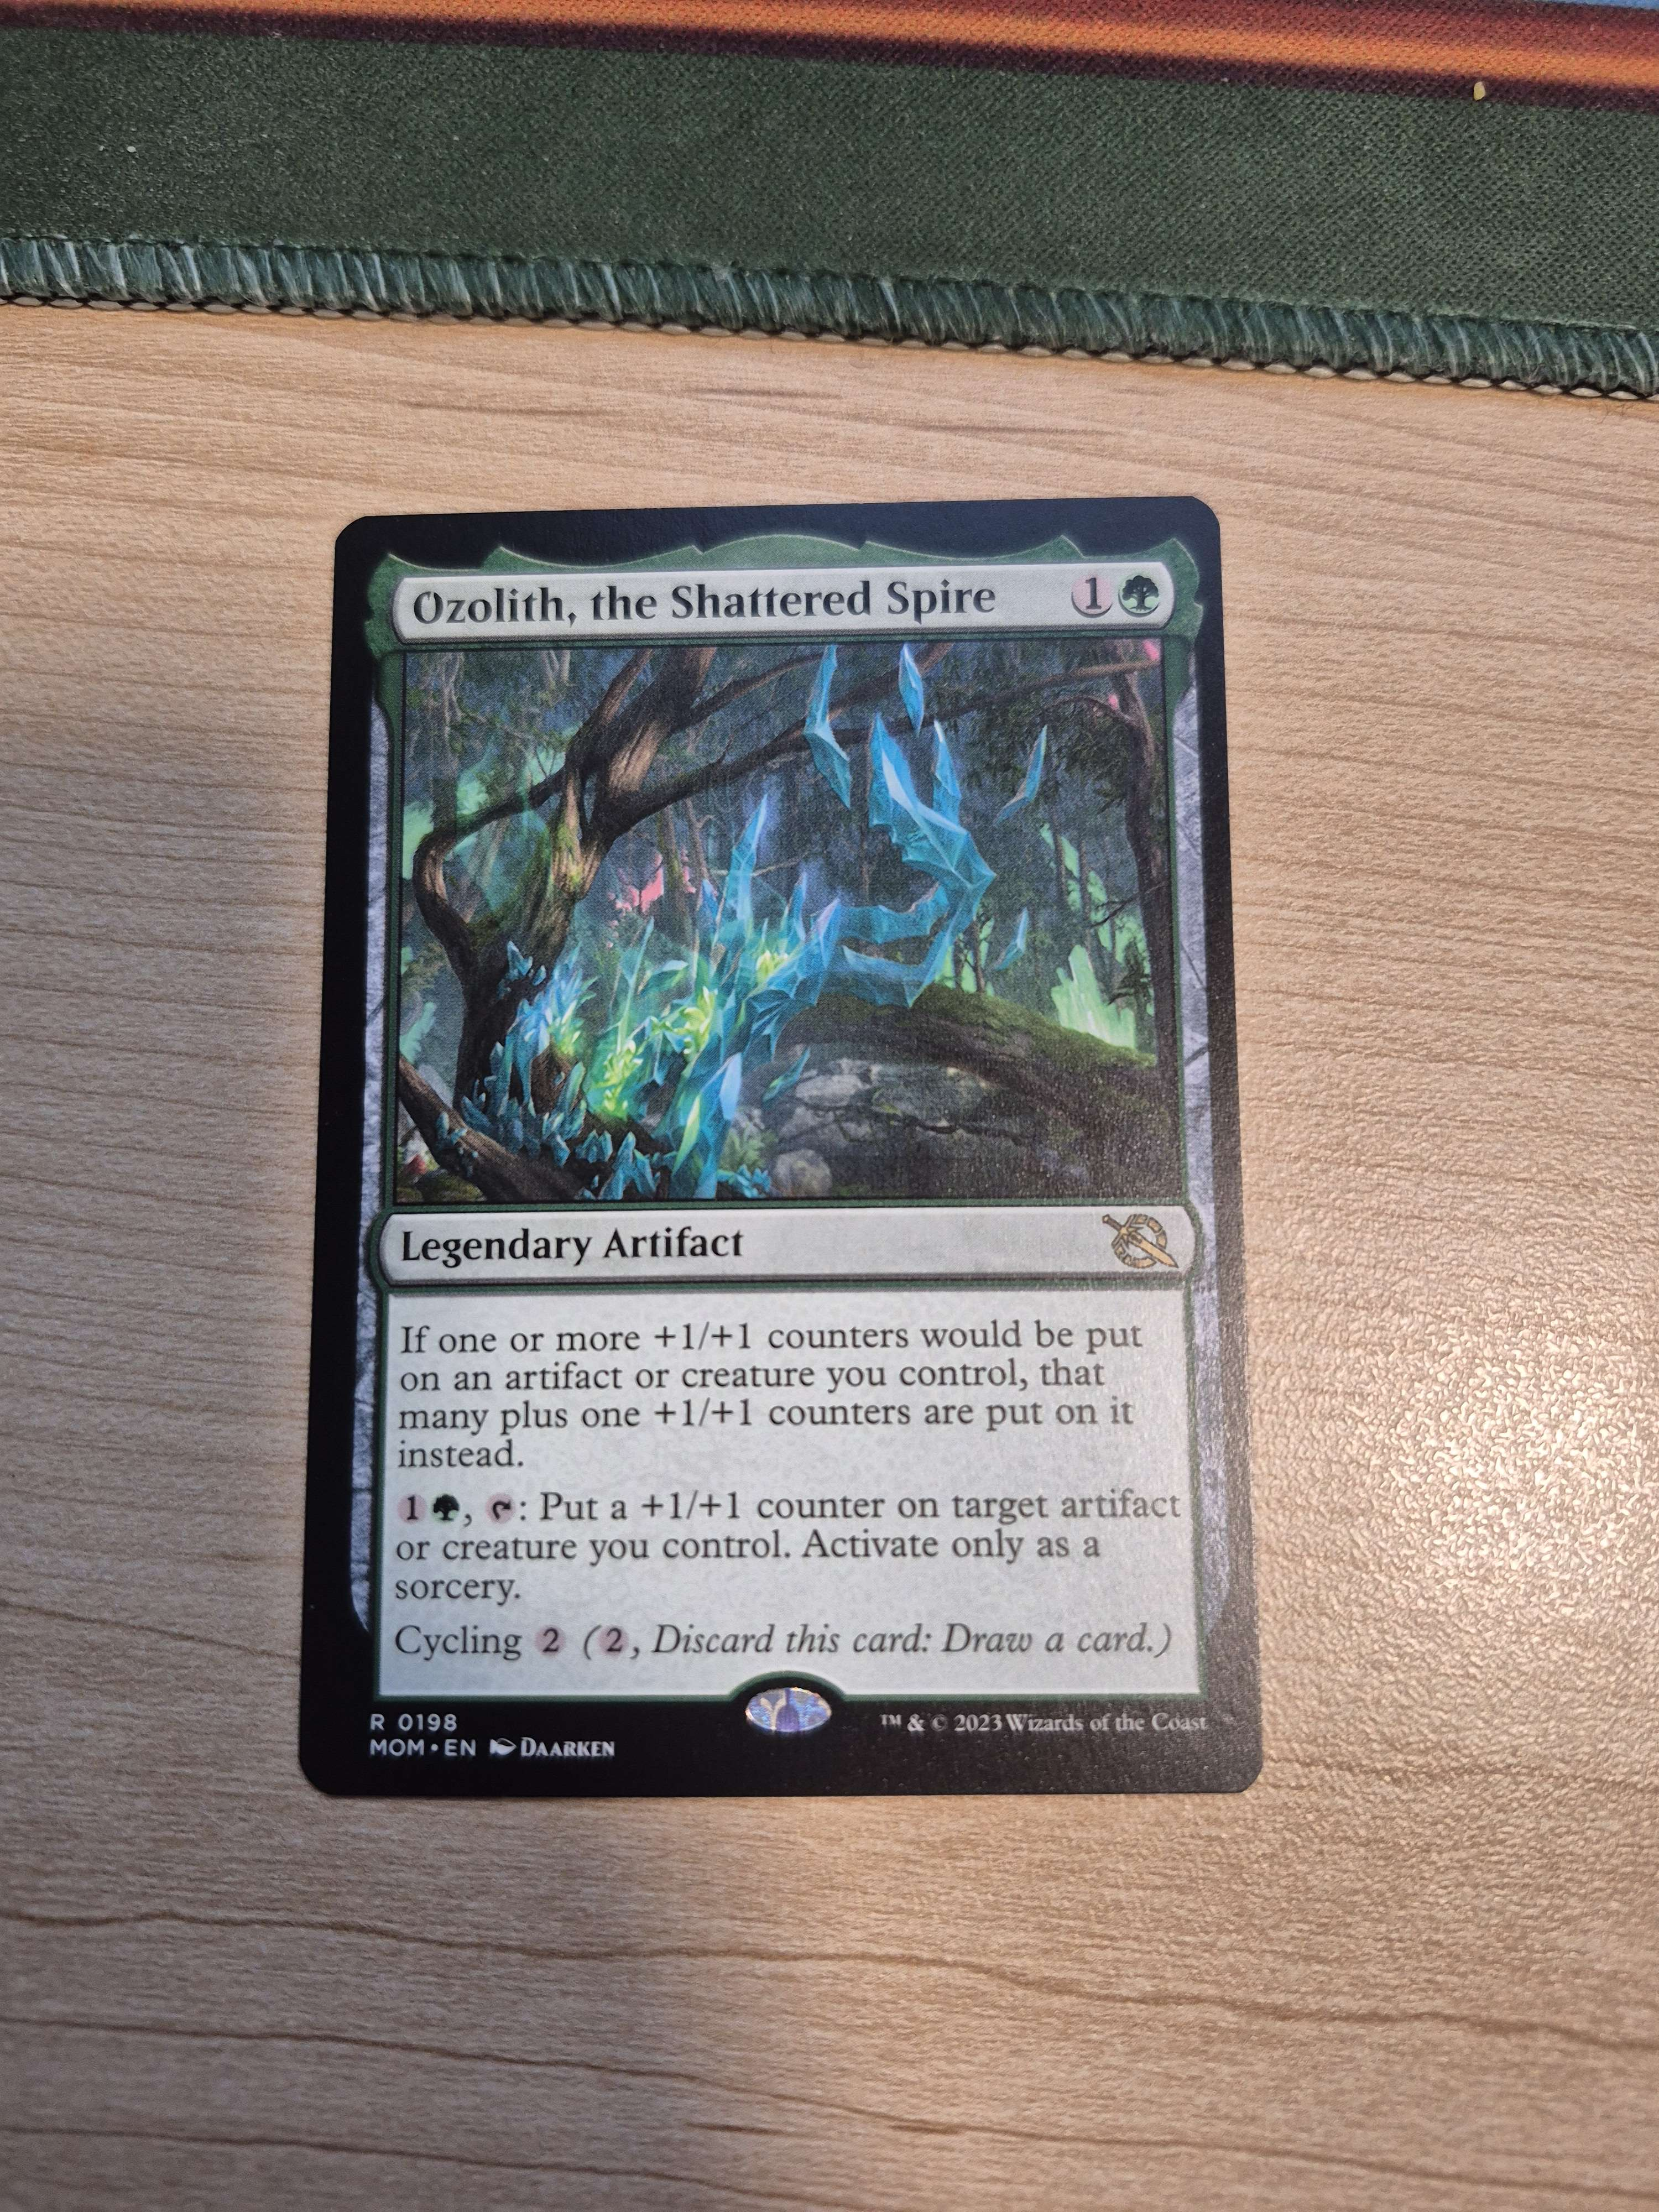mtg_card: (291, 481, 1291, 1827)
